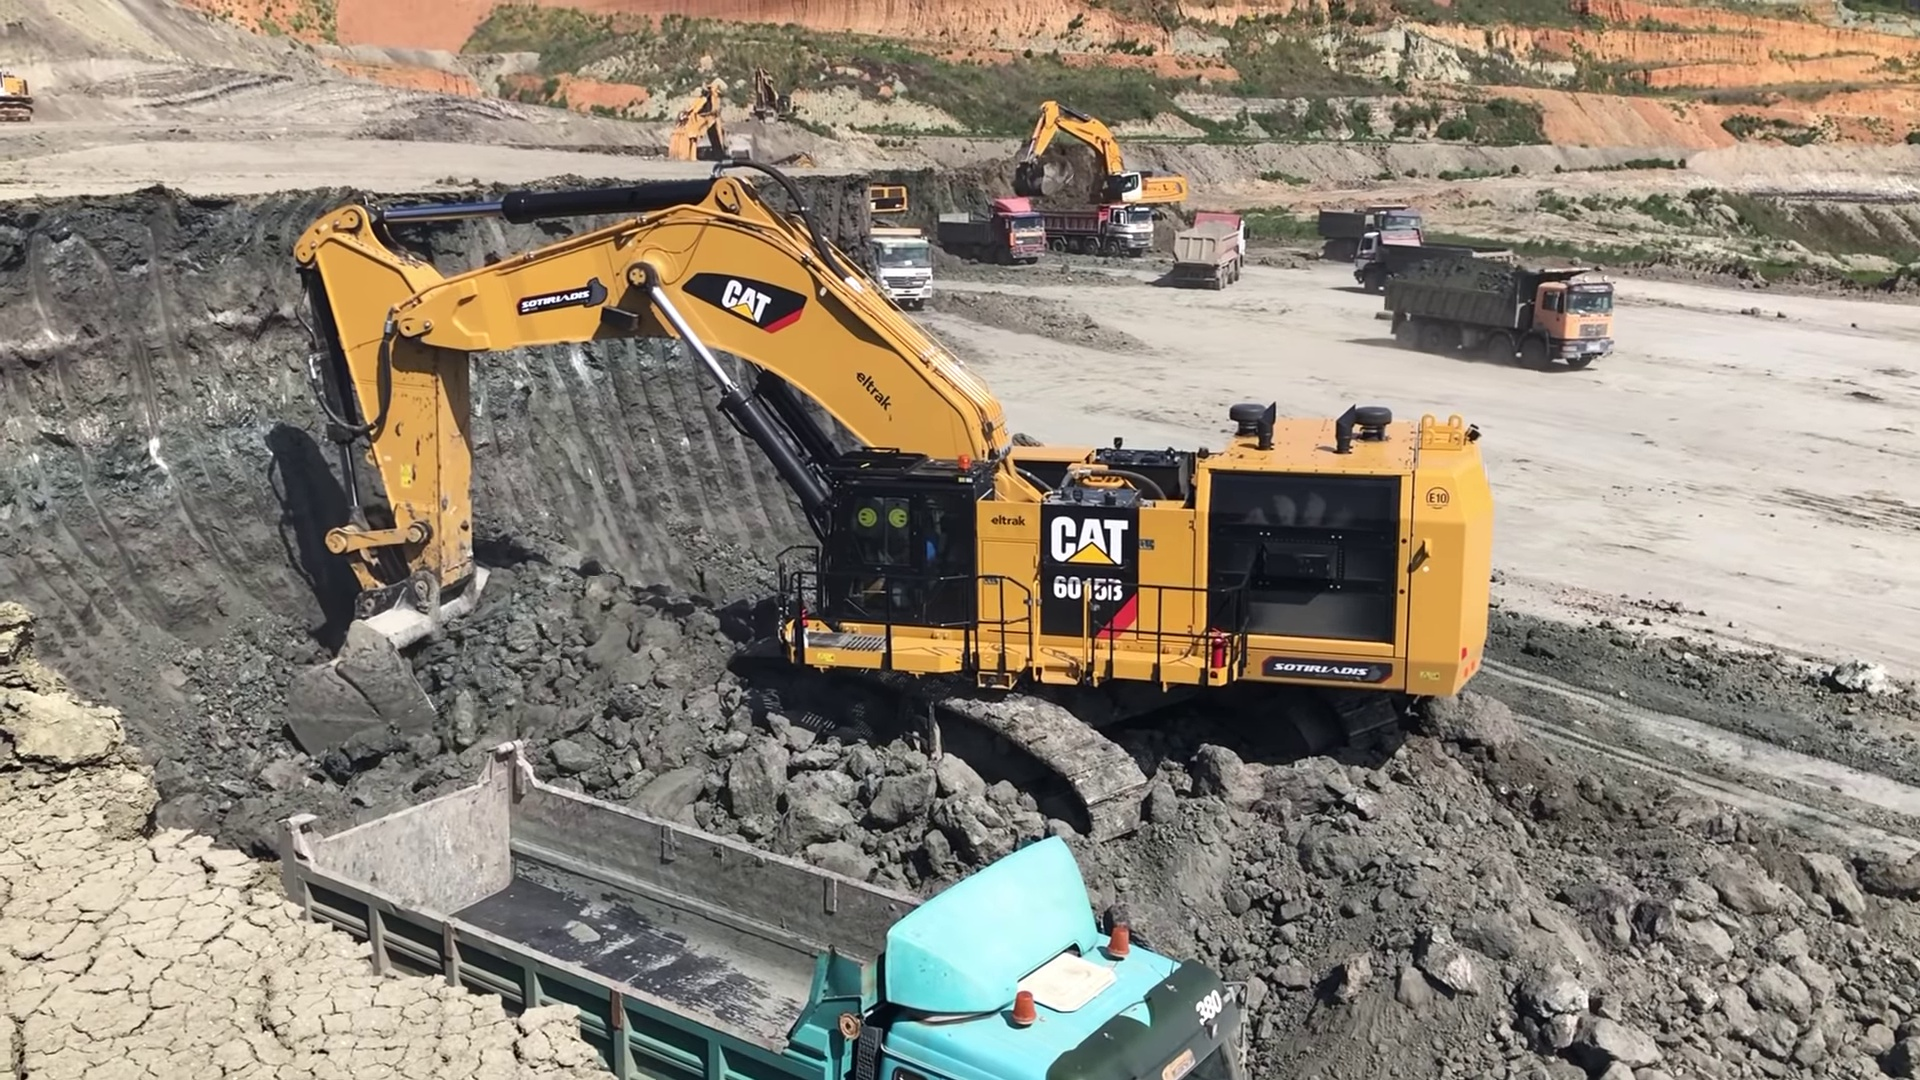excavator: (282, 160, 1493, 793), (1361, 232, 1610, 368), (1018, 103, 1197, 214), (935, 204, 1047, 268), (669, 87, 746, 175), (860, 223, 934, 315), (1044, 196, 1156, 253), (1174, 208, 1247, 287), (1315, 204, 1419, 247)
truck: (291, 735, 1265, 1080)
